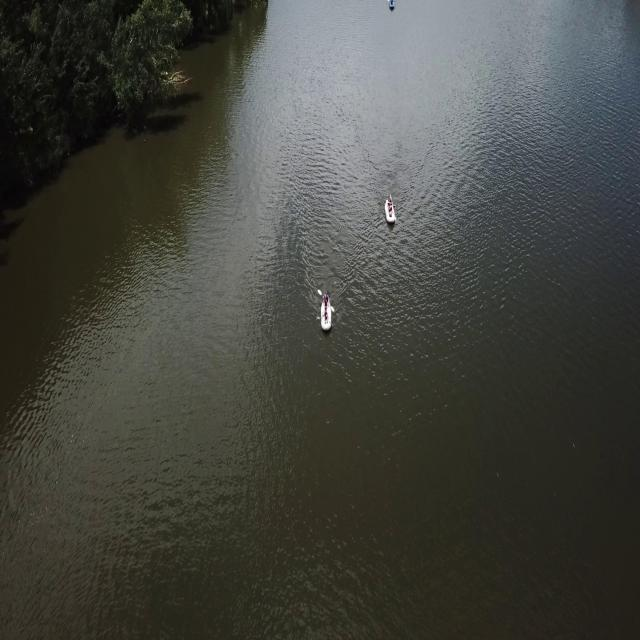kayak: (316, 288, 335, 328), (383, 188, 396, 222), (387, 0, 397, 13)
